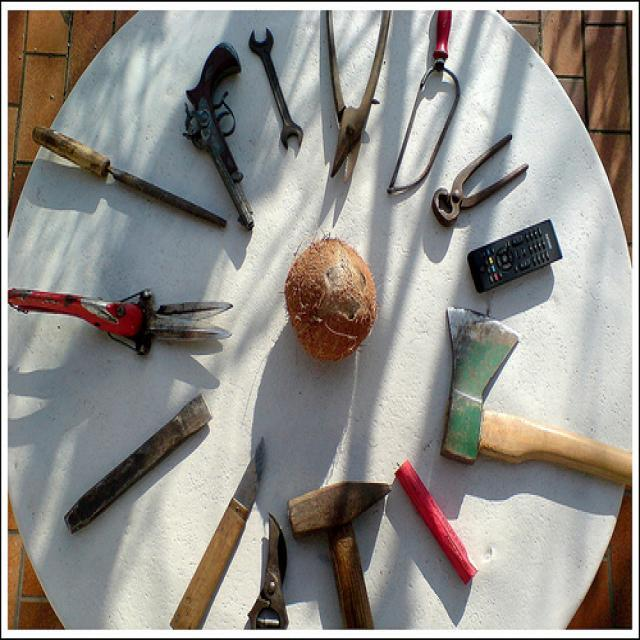hammer: (284, 475, 406, 640)
pliers: (320, 0, 396, 181), (426, 130, 532, 238)
wrench: (245, 17, 308, 160)
